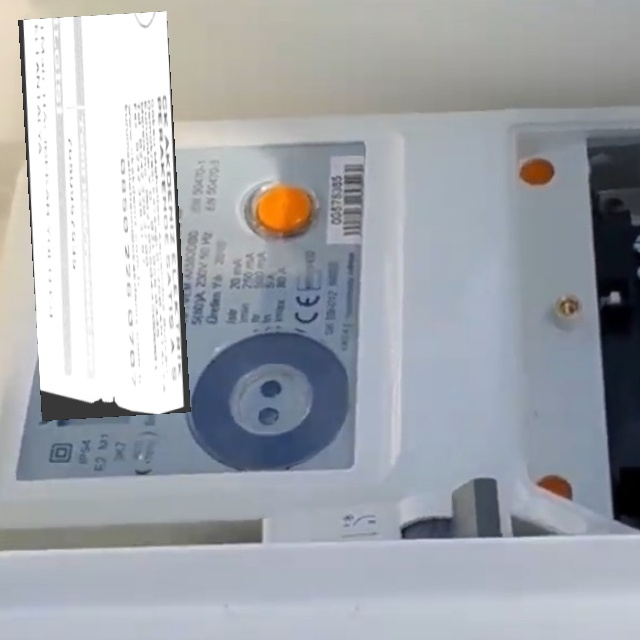electricity-bill: (17, 11, 191, 421)
